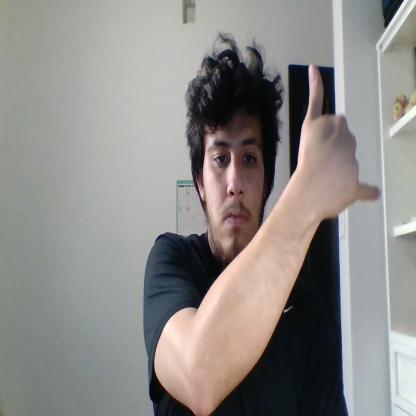Y: (297, 64, 381, 216)
